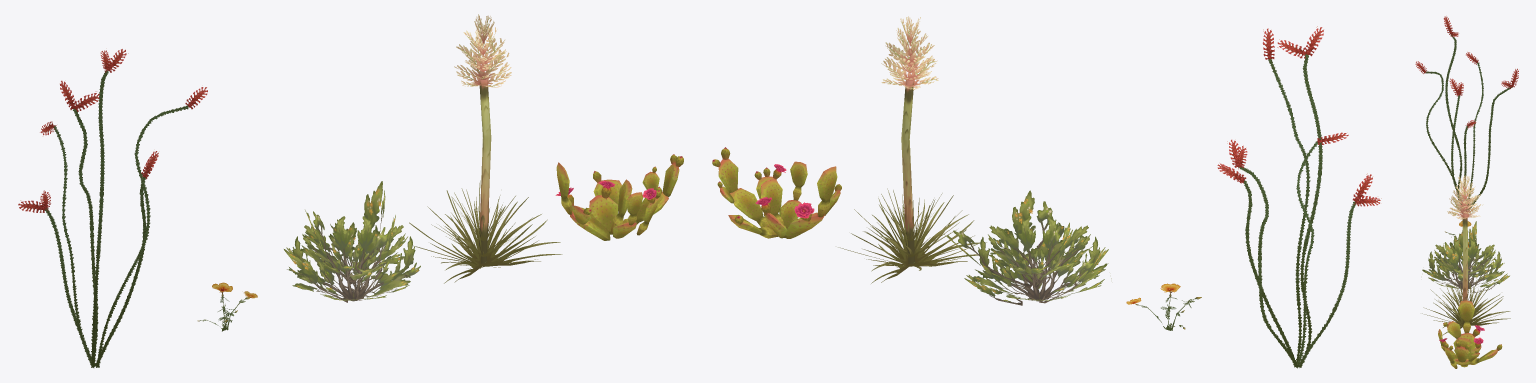
The model's file is desert_plants.glb.
3 renders of one model, left to right at view 1: azimuth 30°, elevation 25°; view 2: azimuth 150°, elevation 25°; view 3: azimuth 270°, elevation 25°, orthographic. The views are drawn at different scales.
Parts seen in each view (by area): view 1: creosote.base, yucca.bush, creosote.round, creosote.round.001, yucca.stem, ocotillo.stem.003, ocotillo.stem.001, ocotillo.stem.004, yucca.bushround, ocotillo.stem, yucca.bushround.001, ocotillo.stem.005 (+4 smaller); view 2: creosote.base, yucca.bush, creosote.round, creosote.round.001, yucca.stem, ocotillo.stem.003, ocotillo.stem.001, creosote.branch.003, ocotillo.stem.004, yucca.bushround, ocotillo.stem, yucca.bushround.001 (+7 smaller); view 3: creosote.base, creosote.round, yucca.bush, creosote.round.001, yucca.stem, ocotillo.stem.003, yucca.bushround, ocotillo.stem.001, beavertail.stempaddle, ocotillo.stem.004, creosote.branch.003, ocotillo.stem (+21 smaller).
Part boxes in pixels (box(x1,y1,x2,y2)): creosote.base: box(289, 216, 415, 300); yucca.bush: box(444, 189, 562, 283); creosote.round: box(287, 248, 420, 301); creosote.round.001: box(299, 224, 407, 283); yucca.stem: box(479, 78, 491, 263); ocotillo.stem.003: box(91, 70, 108, 367); ocotillo.stem.001: box(96, 105, 188, 367); ocotillo.stem.004: box(73, 108, 98, 362); yucca.bushround: box(409, 206, 540, 268); ocotillo.stem: box(53, 125, 96, 366); yucca.bushround.001: box(427, 190, 532, 256); ocotillo.stem.005: box(95, 177, 146, 366); creosote.base: box(975, 217, 1111, 300); yucca.bush: box(870, 190, 986, 283); creosote.round: box(970, 245, 1108, 301); creosote.round.001: box(988, 222, 1094, 283); yucca.stem: box(901, 80, 915, 263); ocotillo.stem.003: box(1299, 54, 1322, 367); ocotillo.stem.001: box(1268, 59, 1310, 362); creosote.branch.003: box(1012, 190, 1054, 293); ocotillo.stem.004: box(1239, 167, 1299, 368); yucca.bushround: box(838, 205, 979, 270); ocotillo.stem: box(1296, 141, 1318, 367); yucca.bushround.001: box(854, 195, 962, 257); creosote.base: box(1428, 239, 1503, 288); creosote.round: box(1422, 255, 1504, 289); yucca.bush: box(1442, 281, 1510, 335); creosote.round.001: box(1434, 242, 1495, 276); yucca.stem: box(1462, 213, 1467, 322); ocotillo.stem.003: box(1445, 35, 1462, 207); yucca.bushround: box(1422, 292, 1503, 327); ocotillo.stem.001: box(1425, 71, 1462, 213); beavertail.stempaddle: box(1458, 300, 1474, 333); ocotillo.stem.004: box(1468, 87, 1512, 209); creosote.branch.003: box(1443, 242, 1462, 289); ocotillo.stem: box(1467, 62, 1483, 205).
Size of the model in its own units: 10.3 by 4.94 by 2.42.
2 materials, 2 textured.
